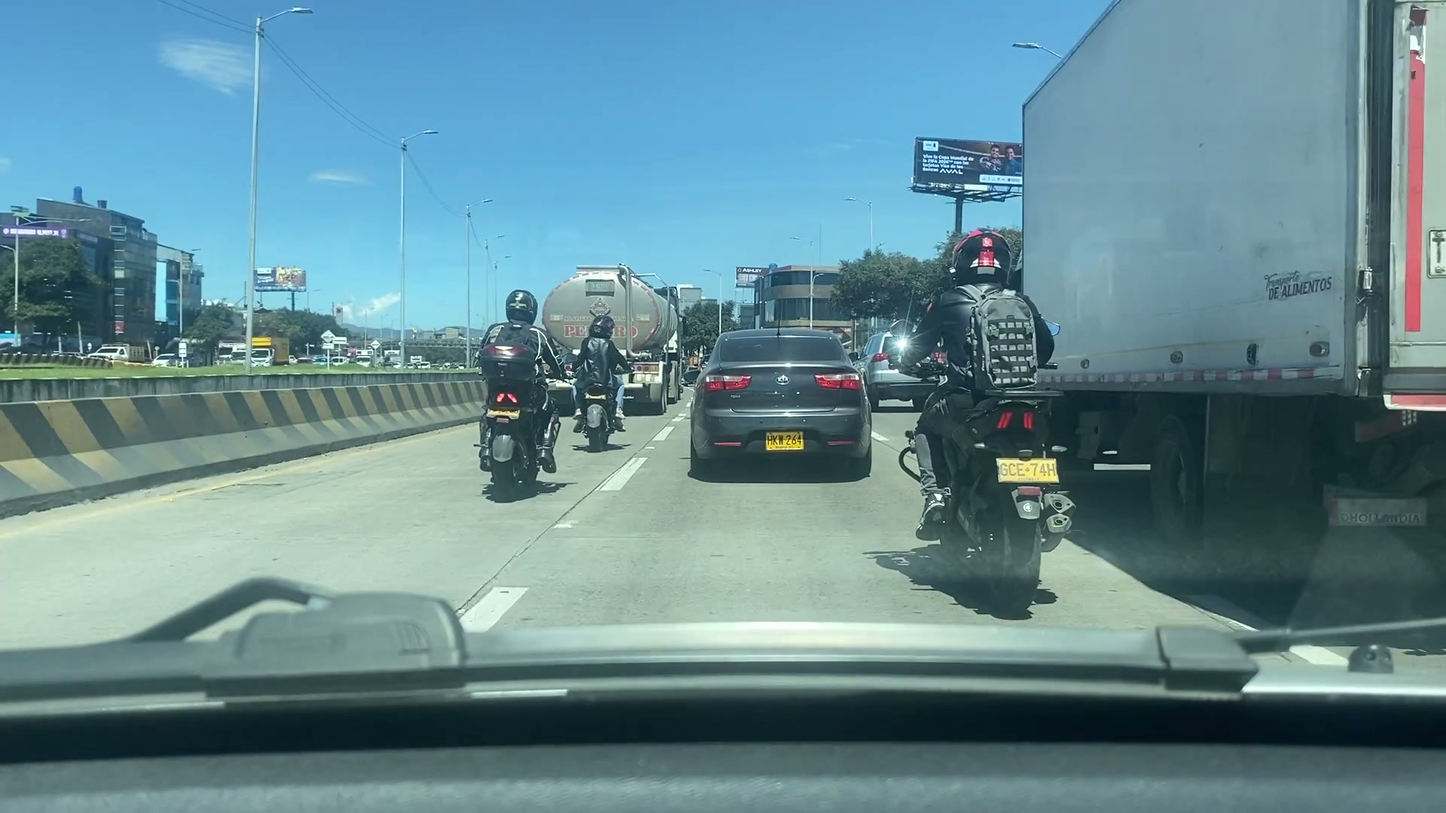car: (694, 329, 871, 479), (855, 330, 942, 409)
motorcycle: (889, 381, 1086, 618), (462, 383, 549, 494), (572, 377, 620, 450)
person: (893, 224, 1075, 542), (477, 289, 561, 471), (568, 314, 628, 432)
truck: (991, 0, 1446, 596), (548, 262, 684, 410)
